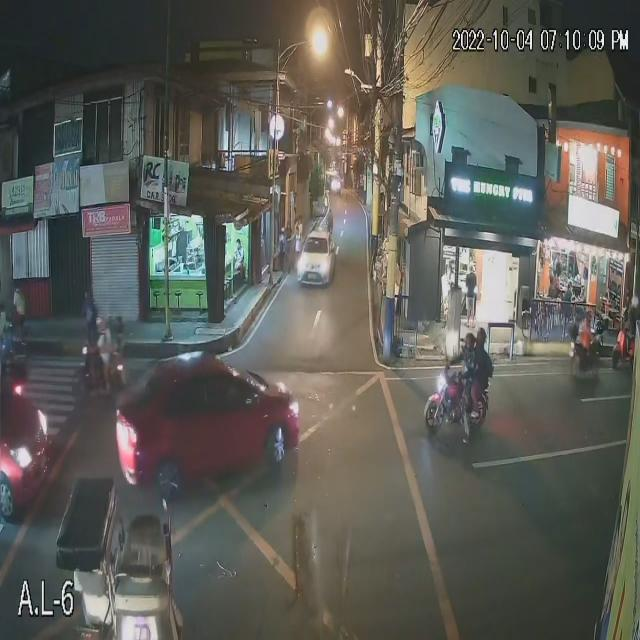helmet: (475, 326, 489, 348)
motorcycle: (423, 365, 488, 440)
rider: (453, 350, 476, 445), (470, 347, 494, 416)
